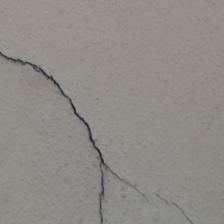Crack: (12, 21, 92, 132), (49, 21, 155, 88)
